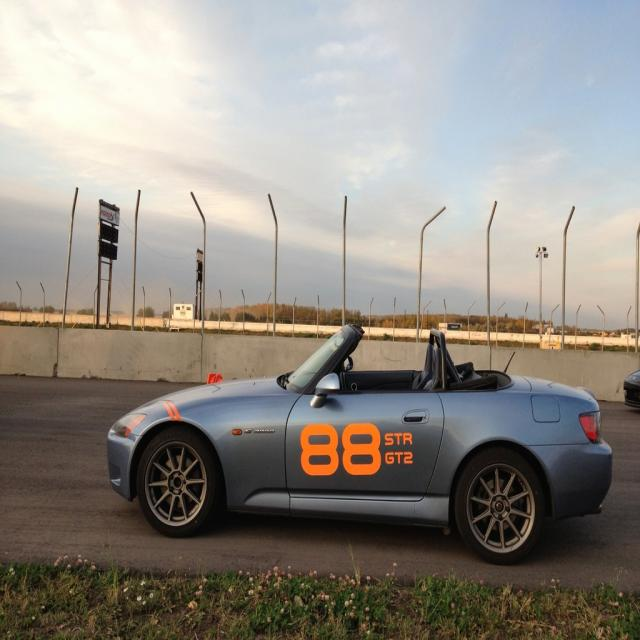Passenger Car: (106, 323, 613, 566)
